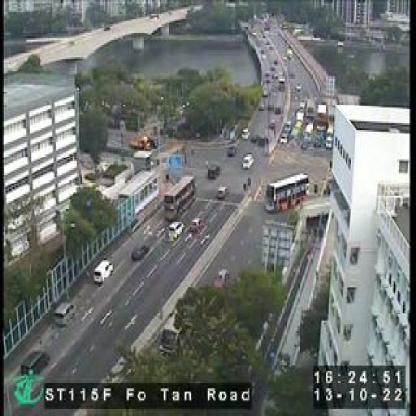Bus: (267, 174, 308, 216), (164, 174, 196, 223)
Car: (22, 349, 50, 376), (55, 301, 75, 327), (93, 259, 113, 282), (167, 221, 185, 242), (213, 267, 229, 288), (133, 241, 150, 260), (192, 214, 205, 232), (209, 160, 221, 178), (242, 154, 253, 170), (225, 142, 237, 156), (216, 184, 227, 198), (280, 129, 289, 145), (241, 128, 251, 140)
